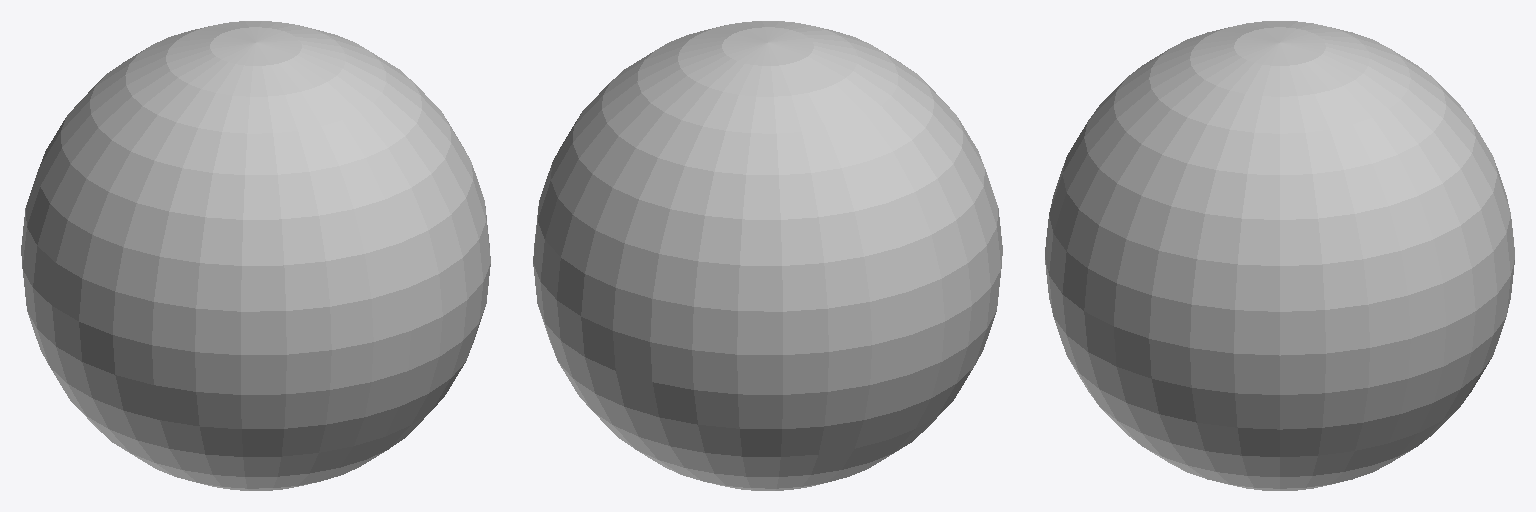
The model's file is sun.obj.
3 views of the same model, side by side, from view 1: azimuth 30°, elevation 25°; view 2: azimuth 150°, elevation 25°; view 3: azimuth 270°, elevation 25° (orthographic).
Visible parts, largest first — view 1: Sphere.001; view 2: Sphere.001; view 3: Sphere.001.
Boxes of the visible parts, x1=… form: Sphere.001: x1=21, y1=21, x2=490, y2=490; Sphere.001: x1=533, y1=21, x2=1002, y2=490; Sphere.001: x1=1045, y1=21, x2=1514, y2=490.
Bounding box in the file's own units: 22.3 × 22.3 × 22.3.